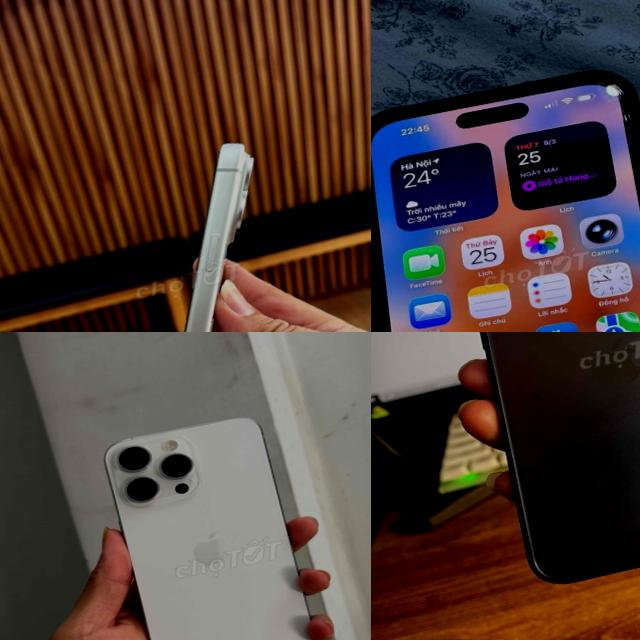gen_11: (433, 332, 640, 590)
gen_14: (371, 53, 640, 332)
gen_15: (79, 396, 335, 640)
gen_17: (93, 122, 330, 332)
